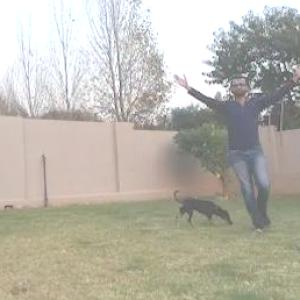takeoff: (171, 58, 299, 246)
